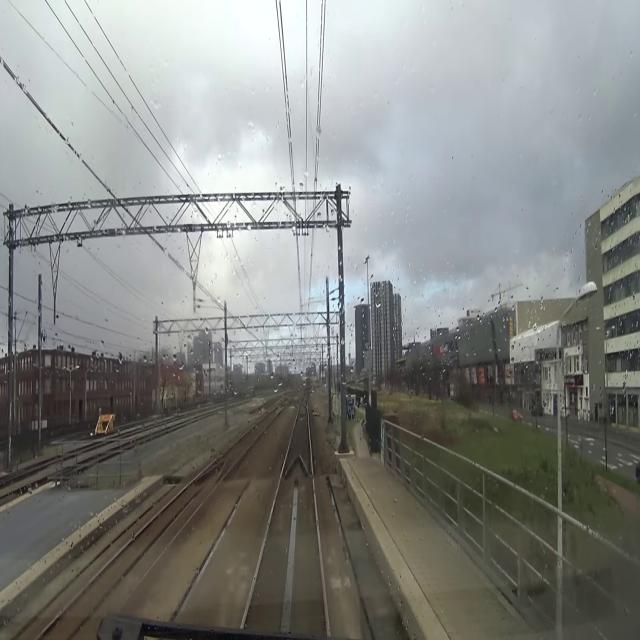rail-track: (42, 469, 218, 639), (247, 460, 324, 630), (225, 414, 272, 465), (287, 407, 309, 467)
